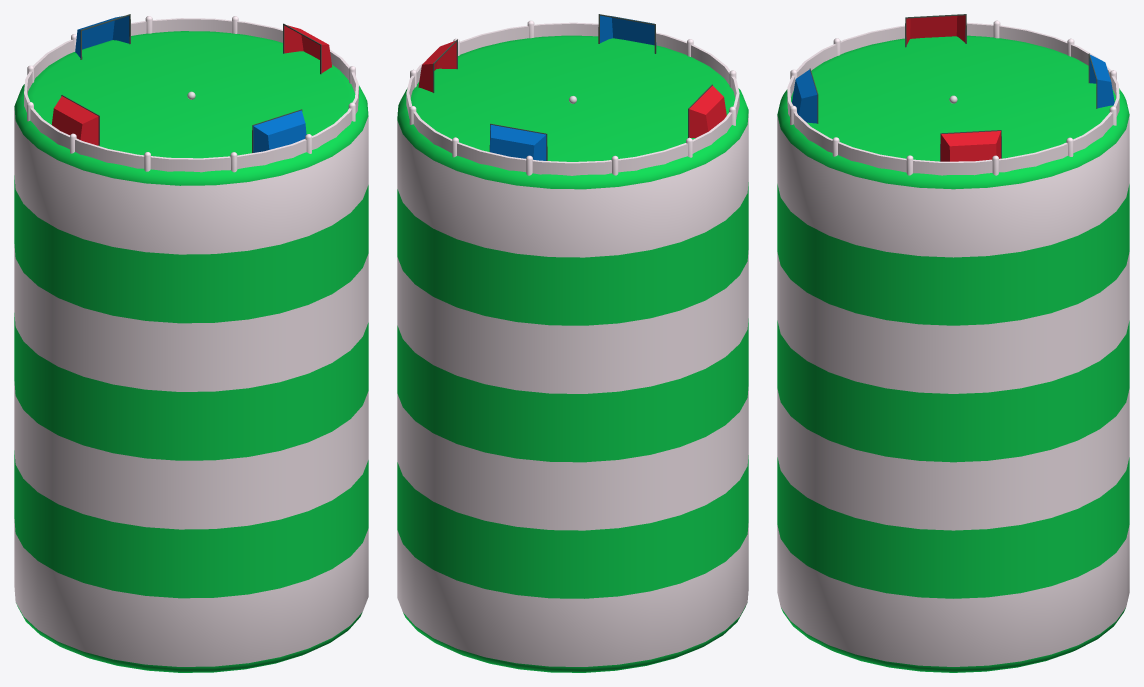
The model's file is SpinnerSoccer.fbx.
The picture shows the model from 3 angles, left to right: view 1: azimuth 30°, elevation 25°; view 2: azimuth 150°, elevation 25°; view 3: azimuth 270°, elevation 25°; orthographic projection.
Visible parts, largest first — view 1: Cylinder, Rail, Post4, Post1, Post2, Post3, Poles; view 2: Cylinder, Rail, Post2, Post1, Post4, Poles, Post3; view 3: Cylinder, Rail, Post3, Post1, Poles, Post4, Post2.
Part boxes in pixels (box(x1,y1,x2,y2)): Cylinder: box(14, 31, 368, 672); Rail: box(24, 18, 358, 172); Post4: box(252, 109, 306, 152); Post1: box(51, 95, 99, 145); Post2: box(75, 14, 130, 59); Post3: box(283, 23, 331, 74); Poles: box(27, 16, 355, 172); Cylinder: box(397, 35, 748, 672); Rail: box(406, 22, 739, 175); Post2: box(489, 123, 547, 160); Post1: box(688, 84, 726, 138); Post4: box(598, 14, 656, 53); Poles: box(409, 20, 736, 175); Post3: box(418, 39, 457, 92); Cylinder: box(777, 35, 1129, 672); Rail: box(787, 22, 1119, 175); Post3: box(940, 130, 1001, 161); Post1: box(905, 14, 966, 47); Poles: box(790, 20, 1116, 175); Post4: box(792, 68, 818, 123); Post2: box(1088, 53, 1114, 108).
Bounding box in the file's own units: 9.06 × 15.04 × 9.06.
